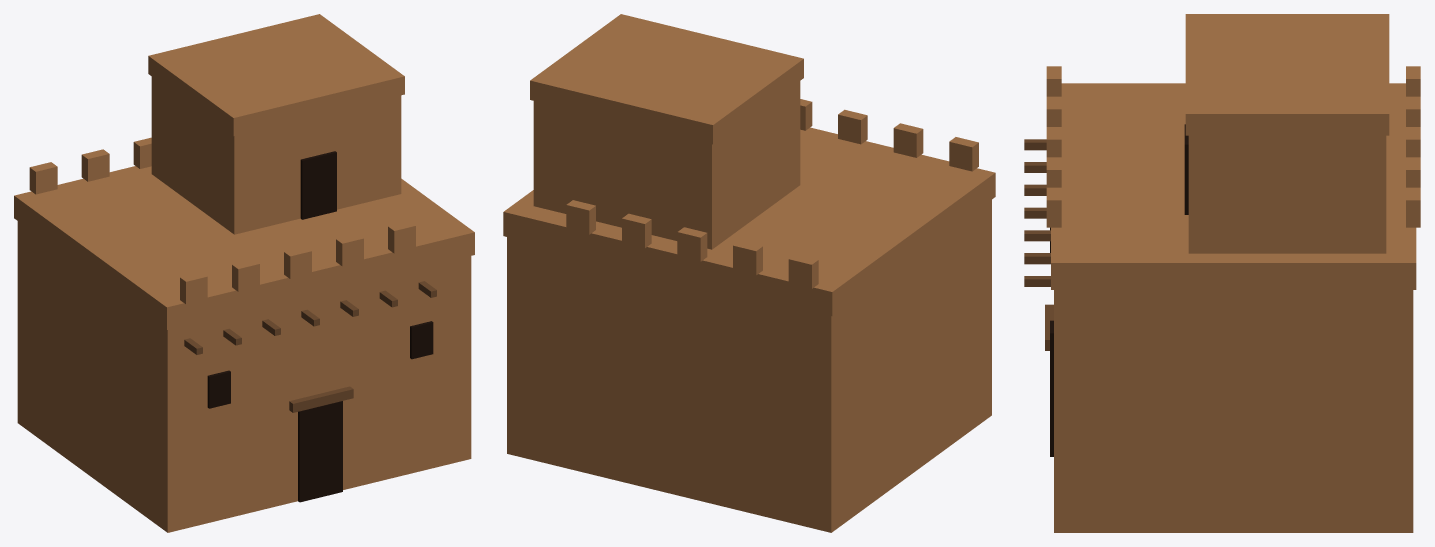
File: house_d.glb
3 views of the same model, side by side, from view 1: azimuth 30°, elevation 25°; view 2: azimuth 150°, elevation 25°; view 3: azimuth 270°, elevation 25° (orthographic). The views are drawn at different scales.
Visible parts, largest first — view 1: House; view 2: House; view 3: House.
Part boxes in pixels (x1=…): House: x1=14, y1=14, x2=474, y2=532; House: x1=503, y1=14, x2=995, y2=532; House: x1=1024, y1=14, x2=1420, y2=532.
Size of the model in its own units: 7.1 by 7.6 by 6.62.
